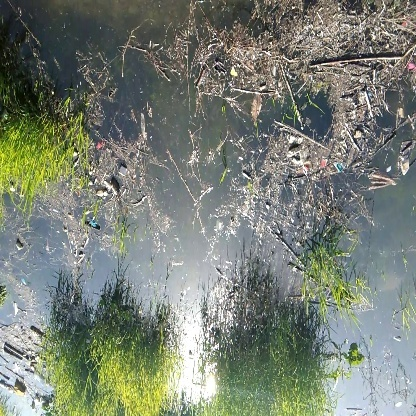branch: (309, 44, 405, 77)
